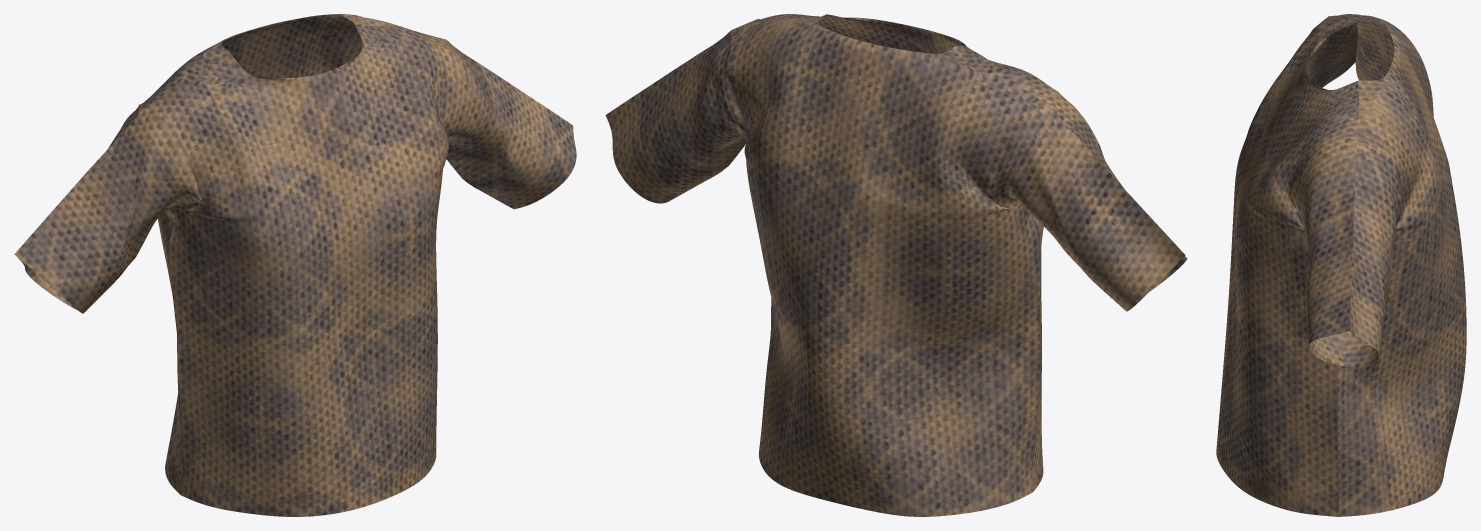
The model's file is MagliettaConTexture1.fbx.
The picture shows the model from 3 angles, left to right: view 1: azimuth 30°, elevation 25°; view 2: azimuth 150°, elevation 25°; view 3: azimuth 270°, elevation 25°; orthographic projection. The views are drawn at different scales.
Visible parts, largest first — view 1: T-Shirt; view 2: T-Shirt; view 3: T-Shirt.
Part boxes in pixels (x1,y1,x2,y2): T-Shirt: (14,14,576,516); T-Shirt: (605,14,1187,516); T-Shirt: (1216,14,1466,516).
Bounding box in the file's own units: 760 × 550 × 304.
1 material, 1 textured.
